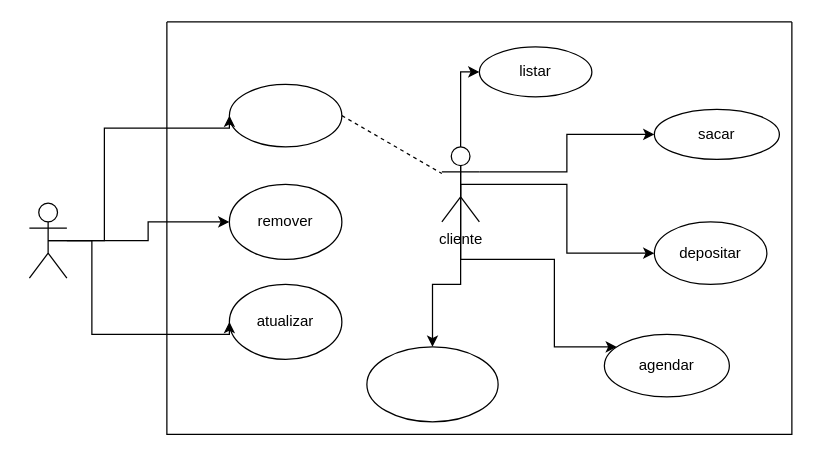
The diagram is 814 pixels wide and 456 high, and some of its shapes have lost their labels. Each missing label, with the centre of its shape:
cadastrar: pixel 285 115
Gerente: pixel 47 240
solicitar credito: pixel 432 384
